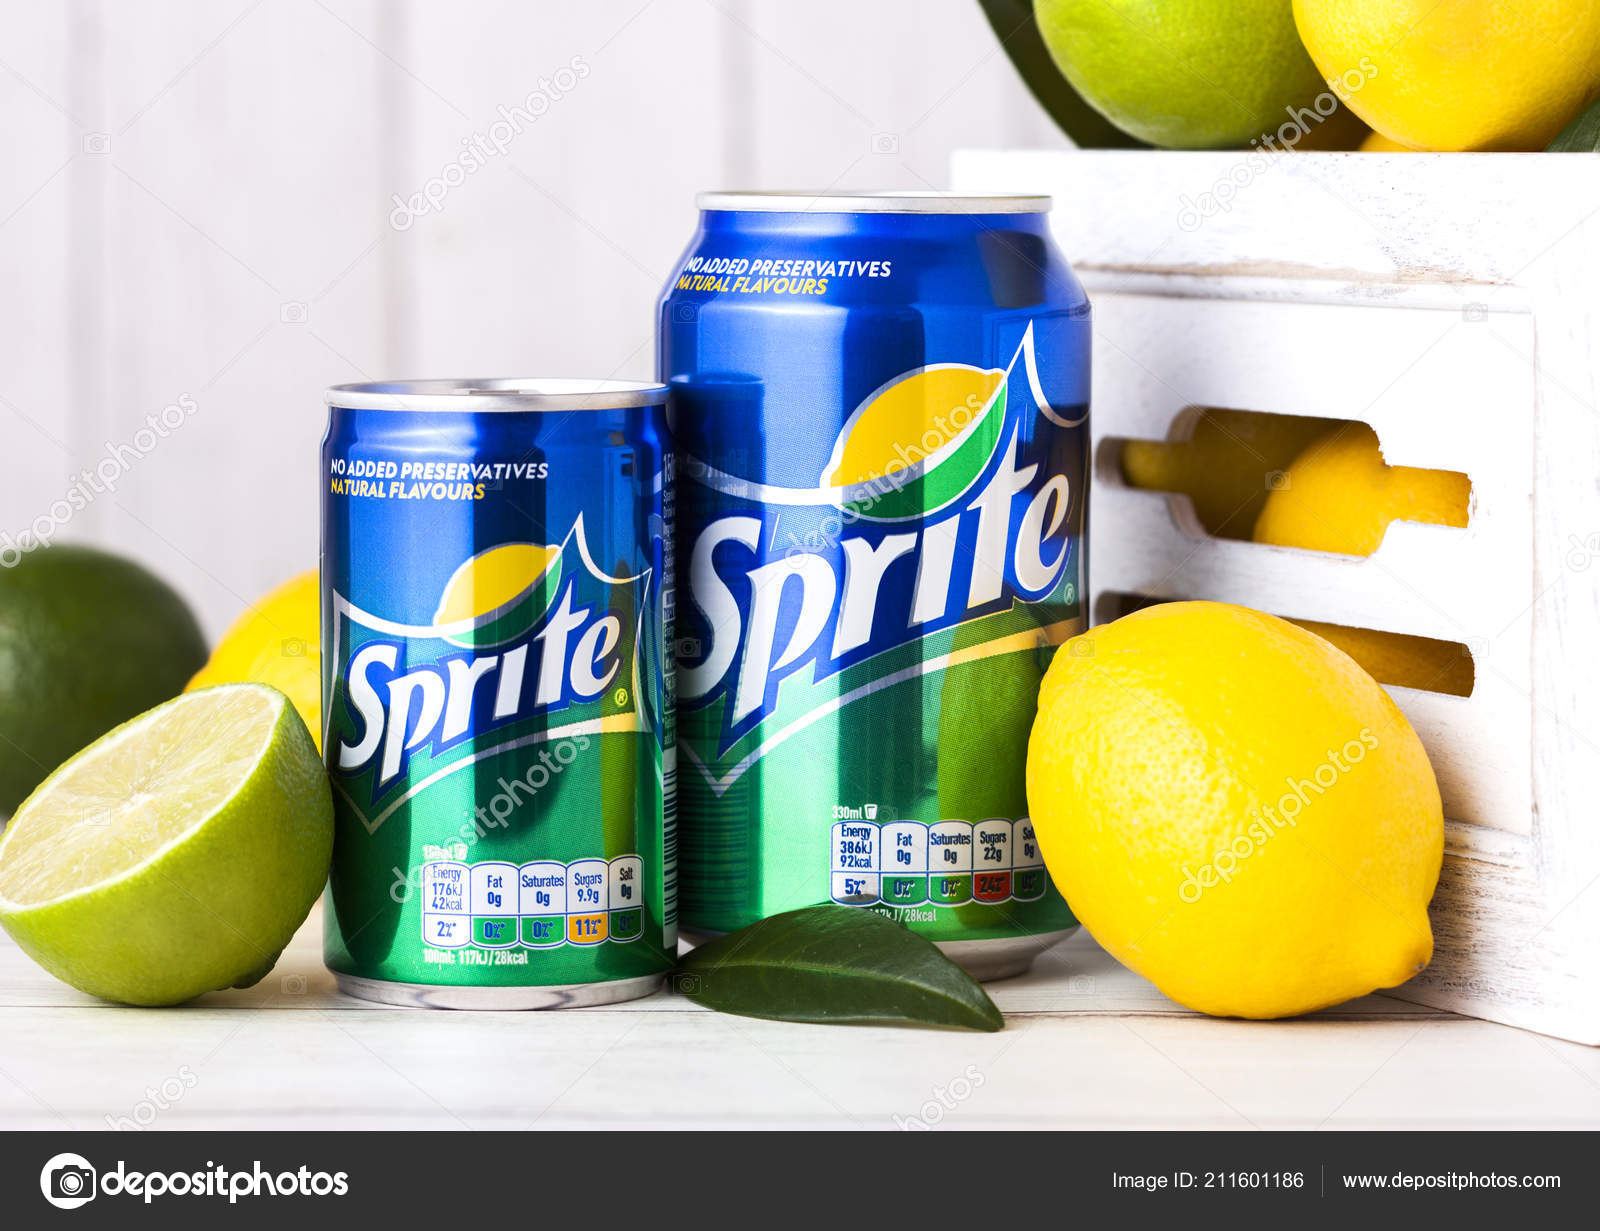sprite: (675, 423, 1069, 734), (333, 586, 622, 778)
